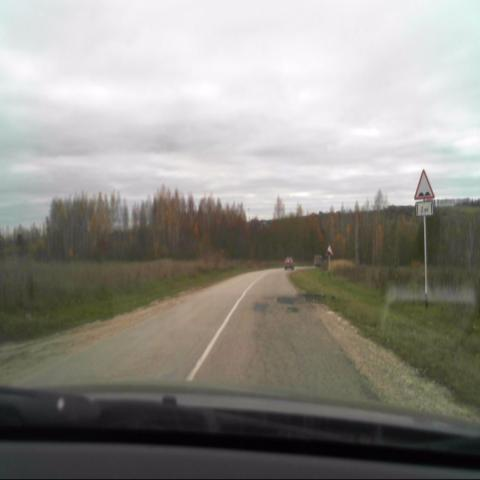1_16: (414, 168, 434, 198)
